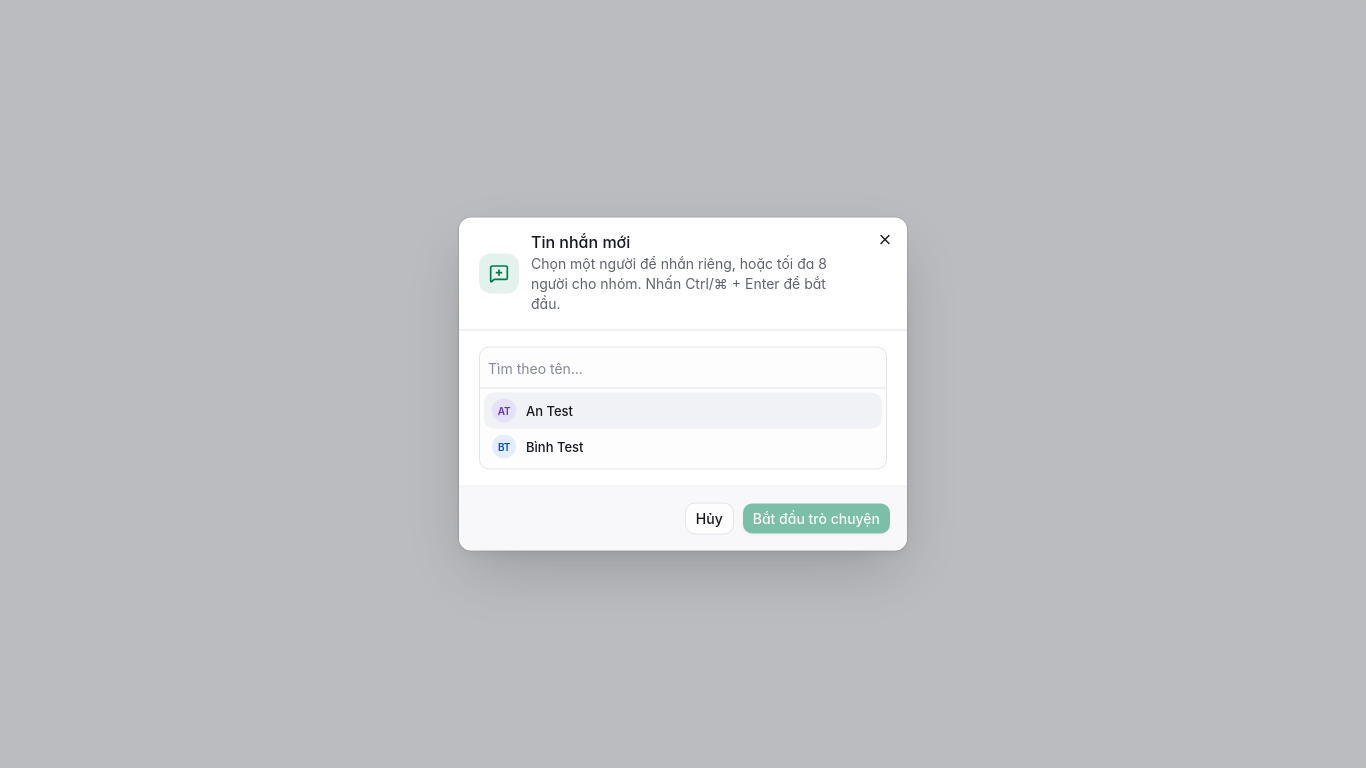
Test: NewMessageDialog — staff DM 1:1 › keeps group conversations for people who may create channels
Click the option "AT An Test".
click(550, 410)  # box [484, 392, 882, 428]
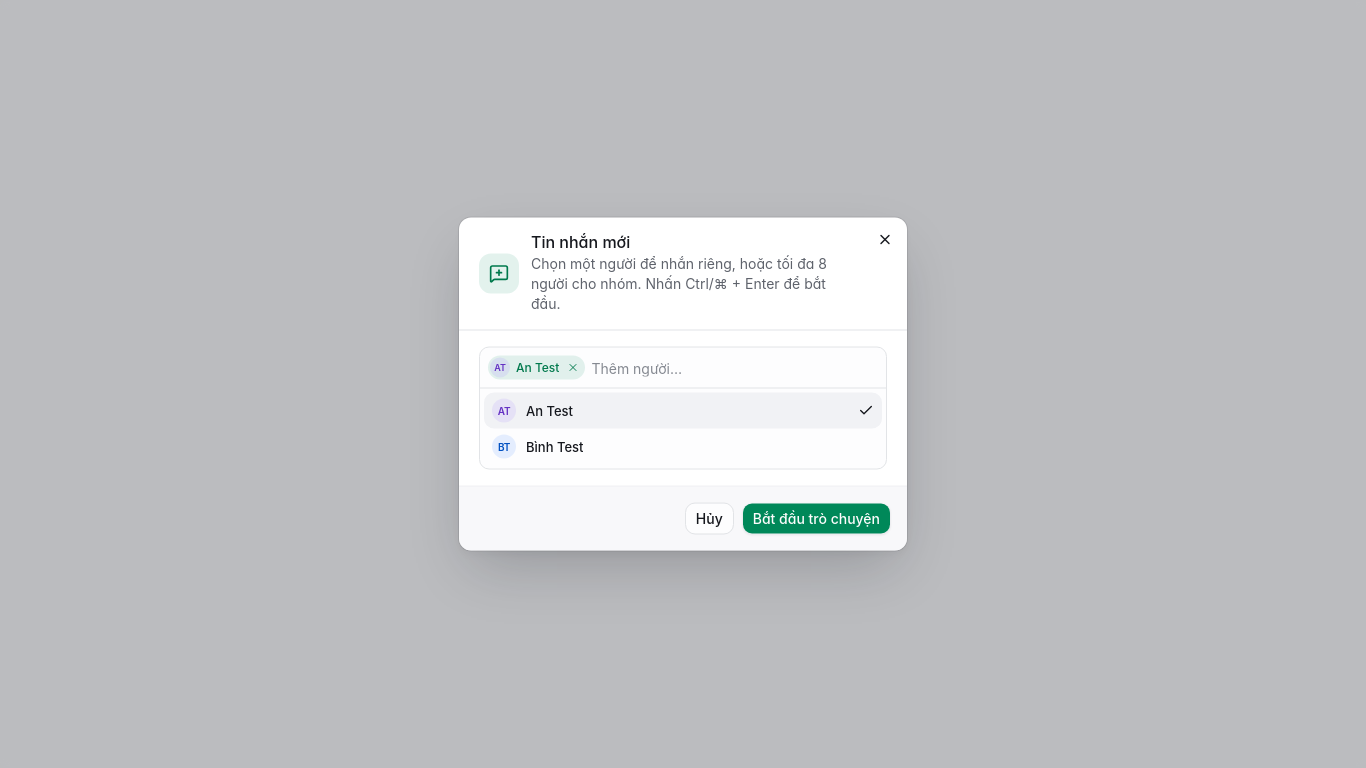
Click the option "BT Bình Test".
click(538, 446)  # box [492, 434, 584, 458]
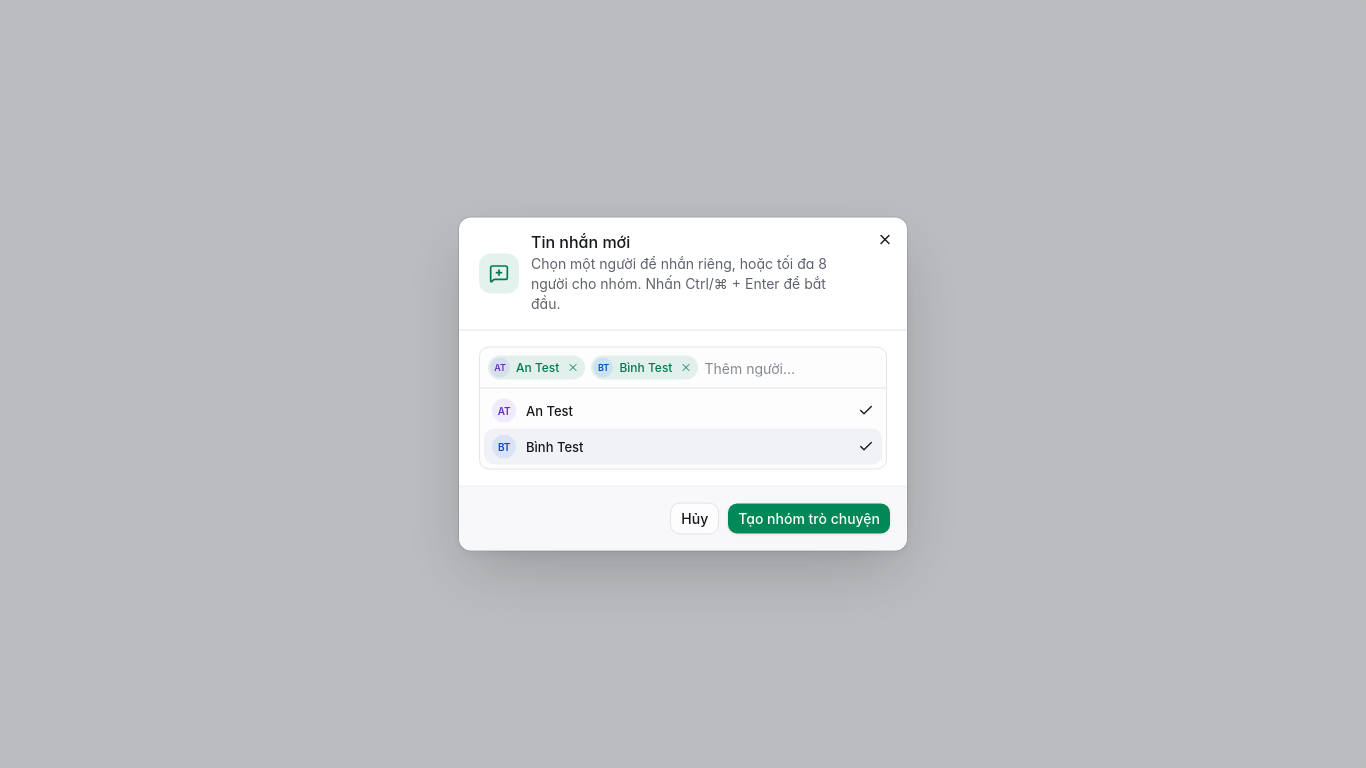
Now the button "Tạo nhóm trò chuyện" is shown, box [727, 502, 891, 534]
